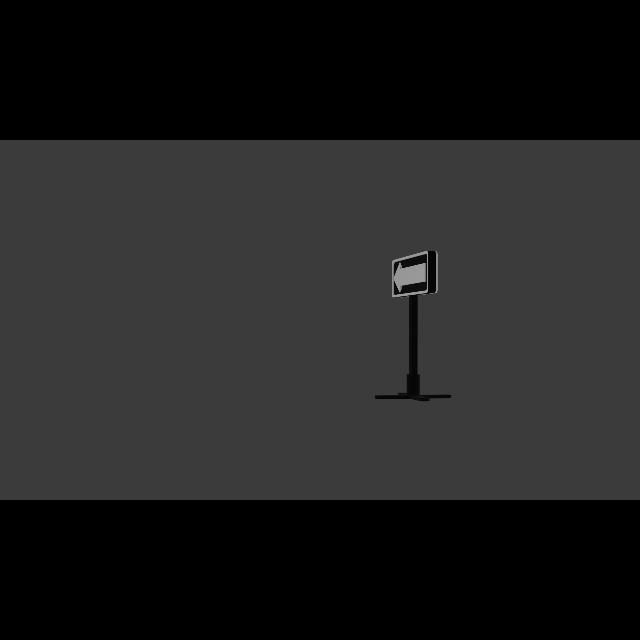sign_oneway_left: (392, 251, 439, 299)
